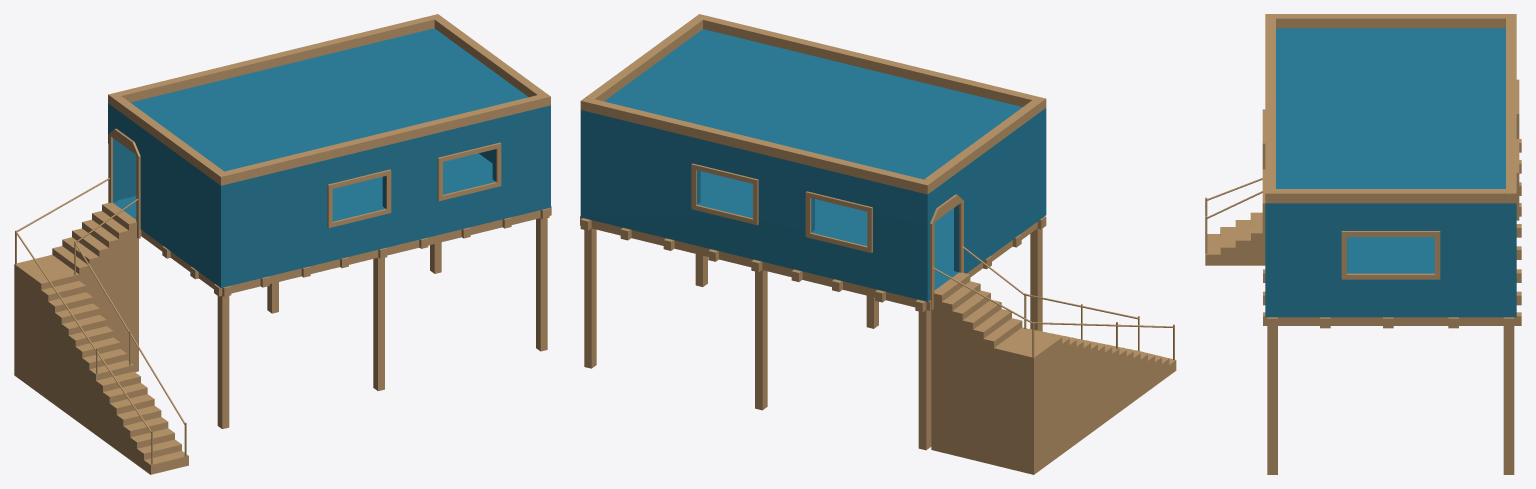
The model's file is house3.fbx.
3 views of the same model, side by side, from view 1: azimuth 30°, elevation 25°; view 2: azimuth 150°, elevation 25°; view 3: azimuth 270°, elevation 25° (orthographic). The views are drawn at different scales.
Parts seen in each view (by area): view 1: polySurface151; view 2: polySurface151; view 3: polySurface151.
Part boxes in pixels (box(x1,y1,x2,y2)): polySurface151: box(14, 14, 551, 474); polySurface151: box(580, 14, 1176, 474); polySurface151: box(1205, 14, 1521, 474).
Size of the model in its own units: 1544 by 874 by 884.
Materials: 2 (1 with a texture image).
